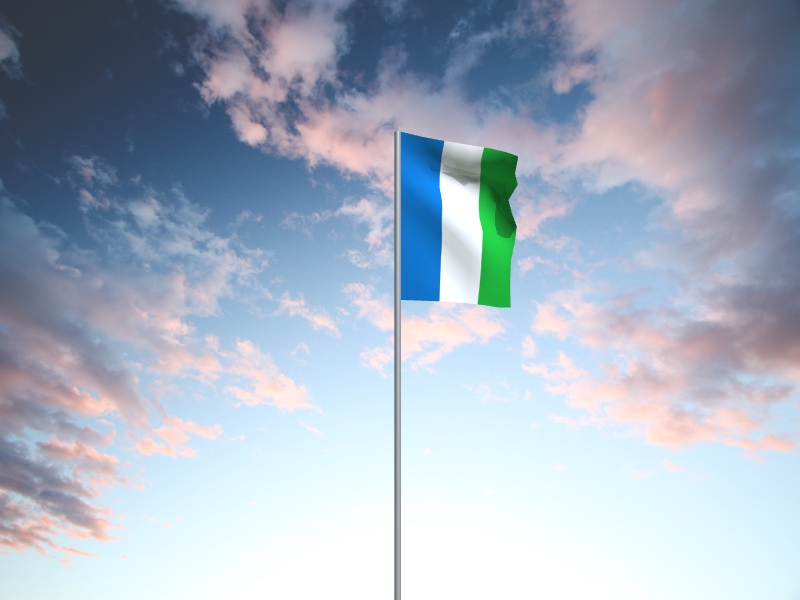sl: (401, 133, 519, 309)
